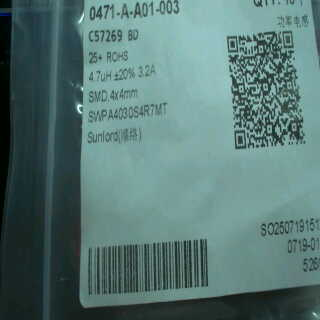4.7uH: (86, 67, 113, 83)
